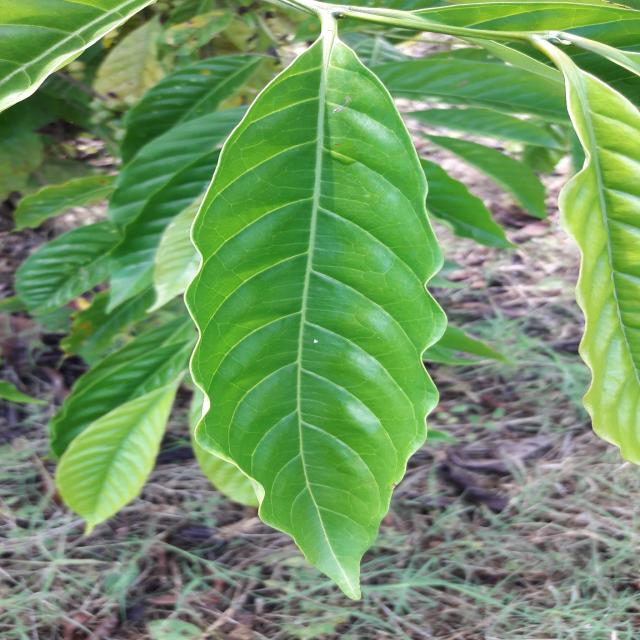Sanas: (184, 37, 450, 603)
